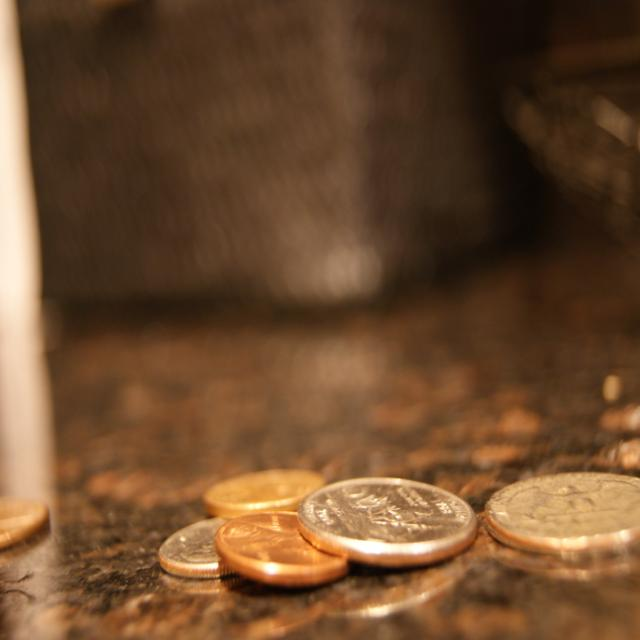Coin: (156, 466, 479, 589), (485, 466, 640, 567), (0, 492, 50, 550)
